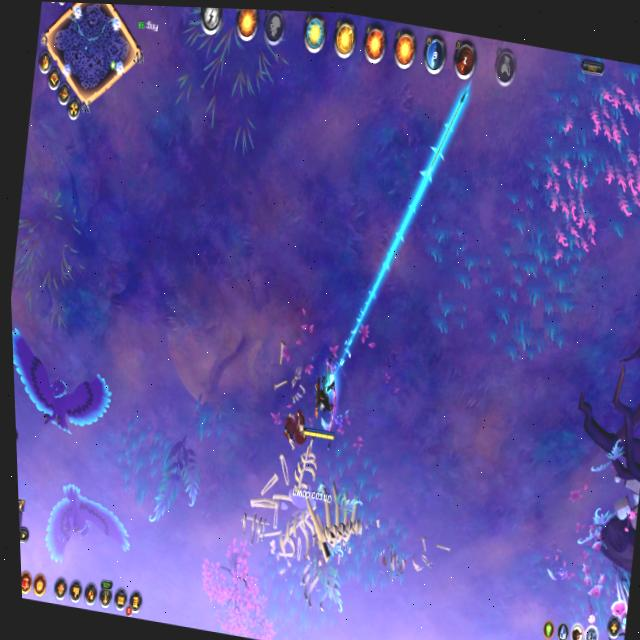red: (298, 368, 346, 449)
